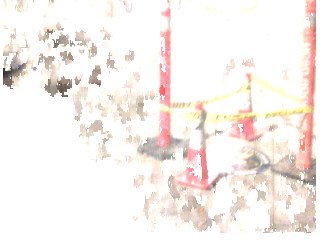Obstacle: (139, 1, 317, 194)
